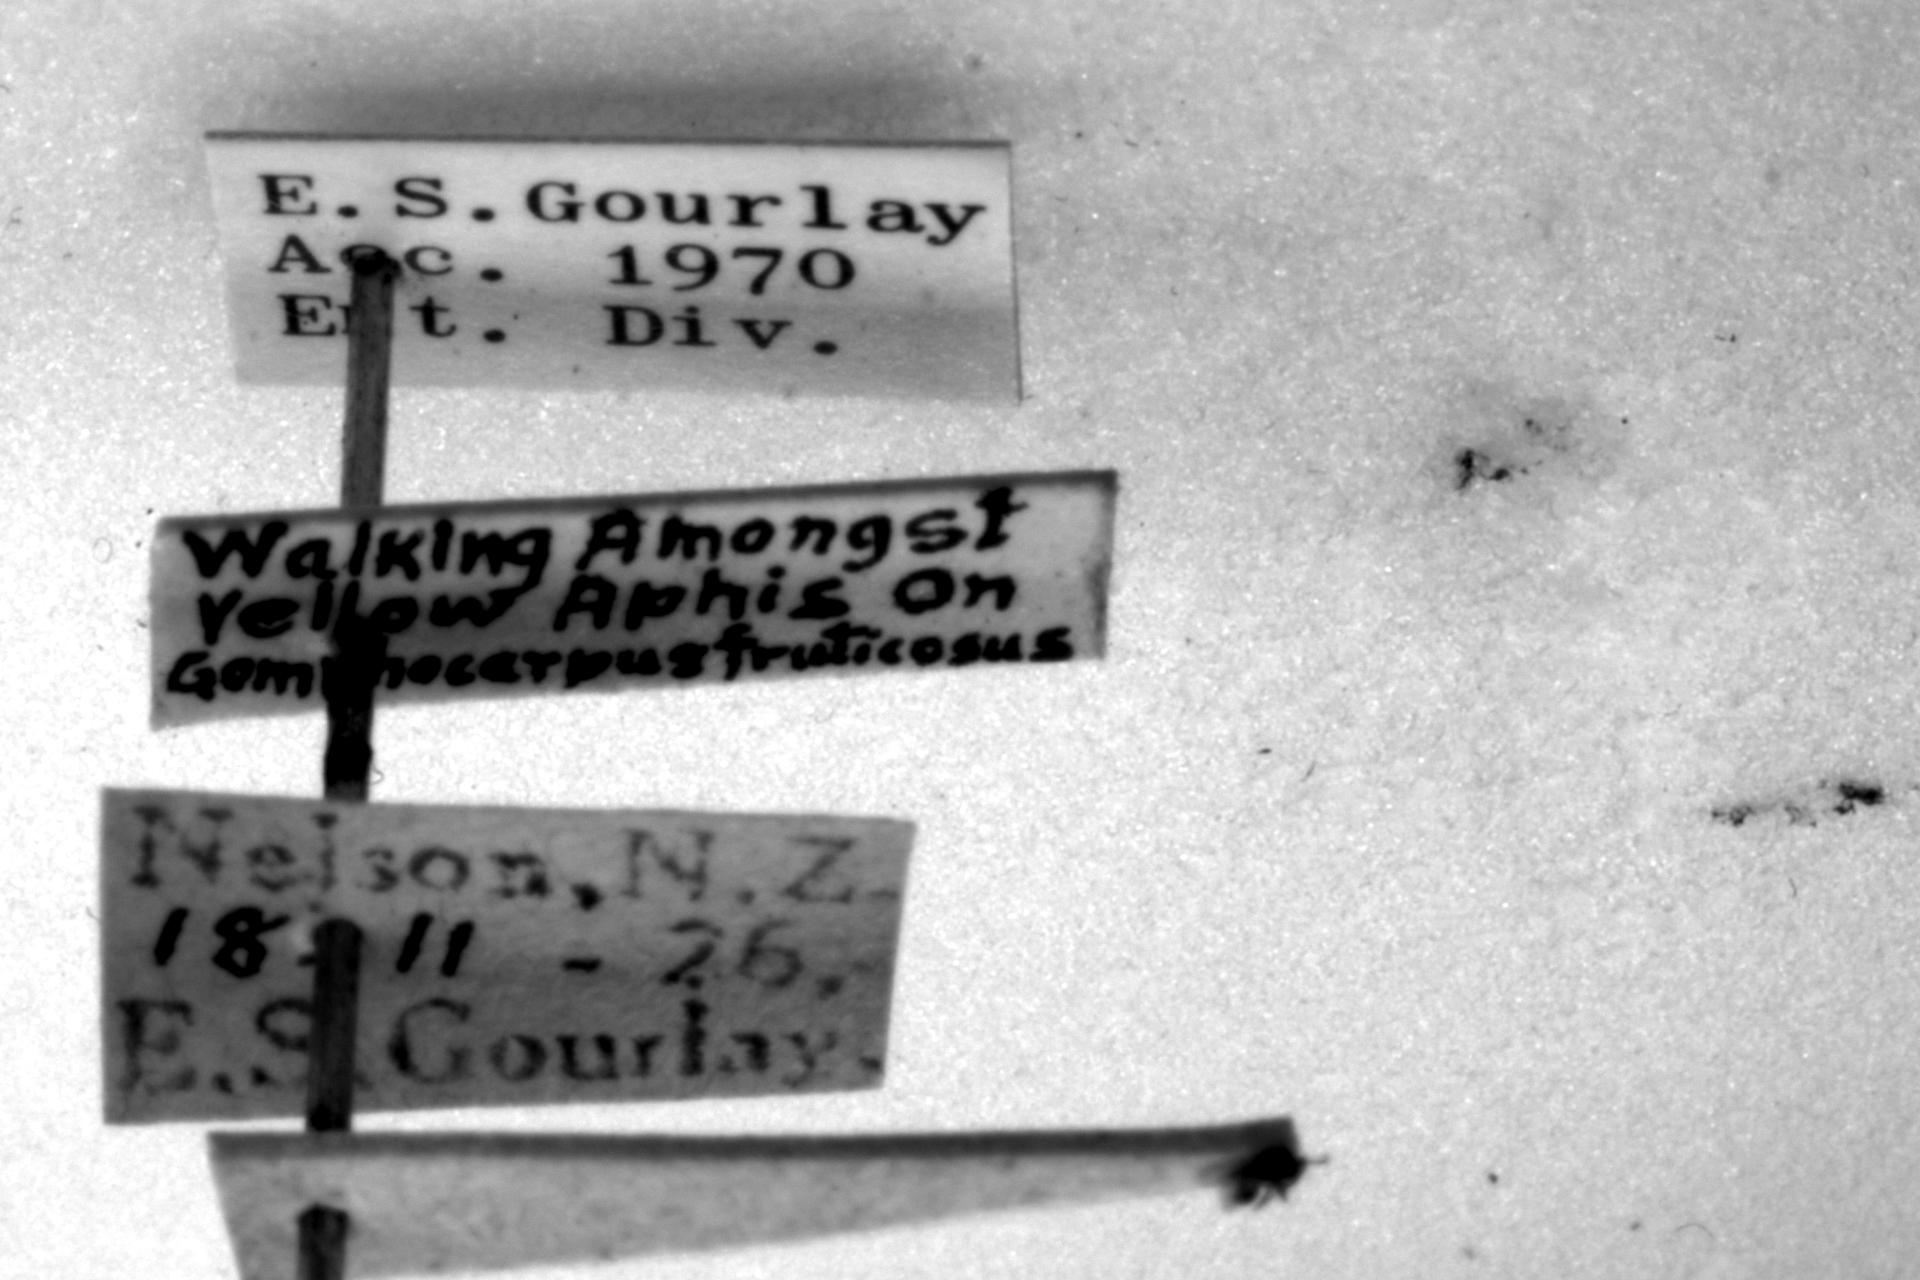hand_label: (150, 472, 1114, 728)
mixed_label: (96, 793, 906, 1127)
typed_label: (206, 131, 1020, 401)
